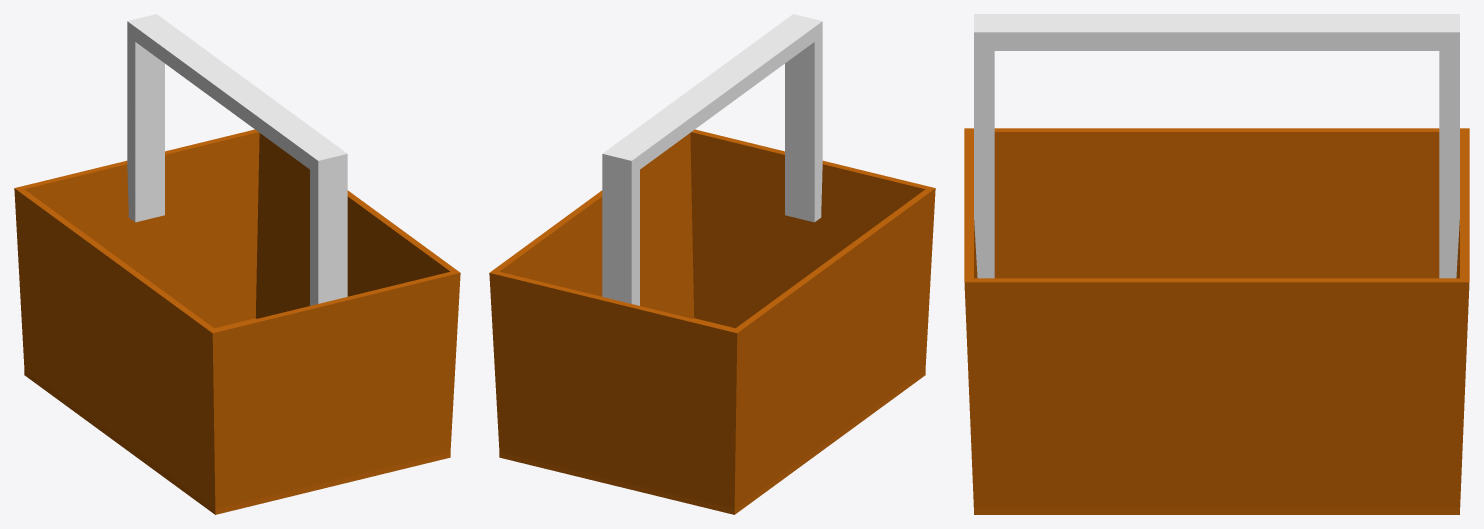
Rendered from Basket.fbx.
The picture shows the model from 3 angles, left to right: view 1: azimuth 30°, elevation 25°; view 2: azimuth 150°, elevation 25°; view 3: azimuth 270°, elevation 25°; orthographic projection. The views are drawn at different scales.
Visible parts, largest first — view 1: Group1; view 2: Group1; view 3: Group1.
Part boxes in pixels (x1,y1,x2,y2): Group1: (14, 14, 460, 514); Group1: (489, 14, 935, 514); Group1: (964, 14, 1469, 514).
Bounding box in the file's own units: 48.68 × 61.71 × 67.44.
